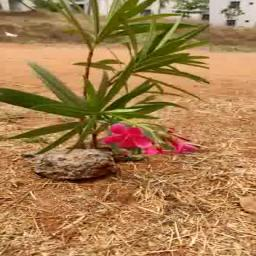OLEANDER: (0, 0, 210, 155)
